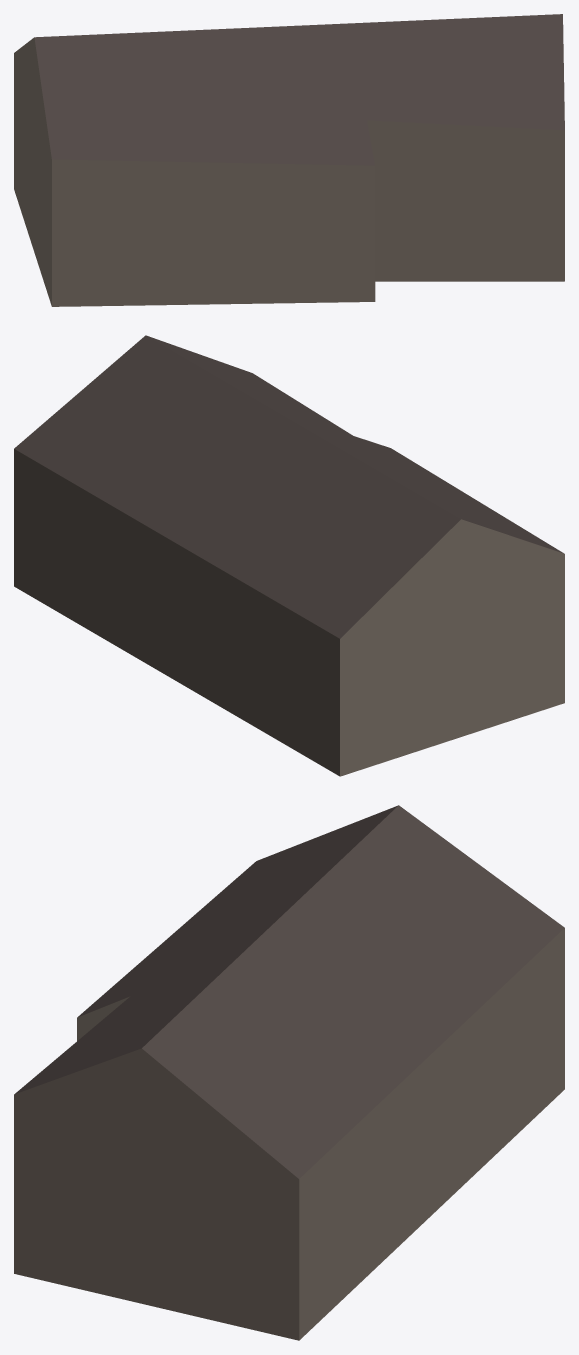
3 views of the same model, one above another, from view 1: azimuth 30°, elevation 25°; view 2: azimuth 150°, elevation 25°; view 3: azimuth 270°, elevation 25° (orthographic). The views are drawn at different scales.
Visible parts, largest first — view 1: HP-w1515071137; view 2: HP-w1515071137; view 3: HP-w1515071137.
Boxes of the visible parts, <box> form: HP-w1515071137: <box>14,14,564,306</box>; HP-w1515071137: <box>14,335,564,776</box>; HP-w1515071137: <box>14,805,564,1340</box>.
Bounding box in the file's own units: 24.28 × 9.49 × 18.55.
